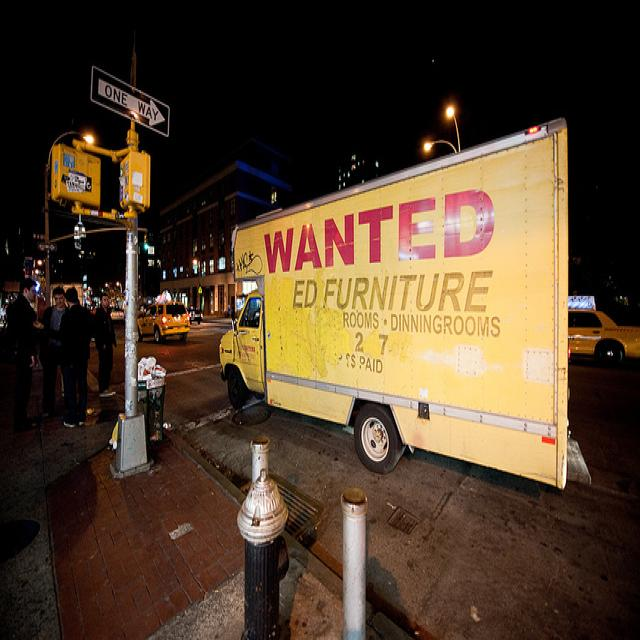Vehicle: (217, 122, 569, 499), (568, 295, 640, 369), (137, 302, 191, 343), (186, 307, 206, 325), (108, 306, 124, 324)
